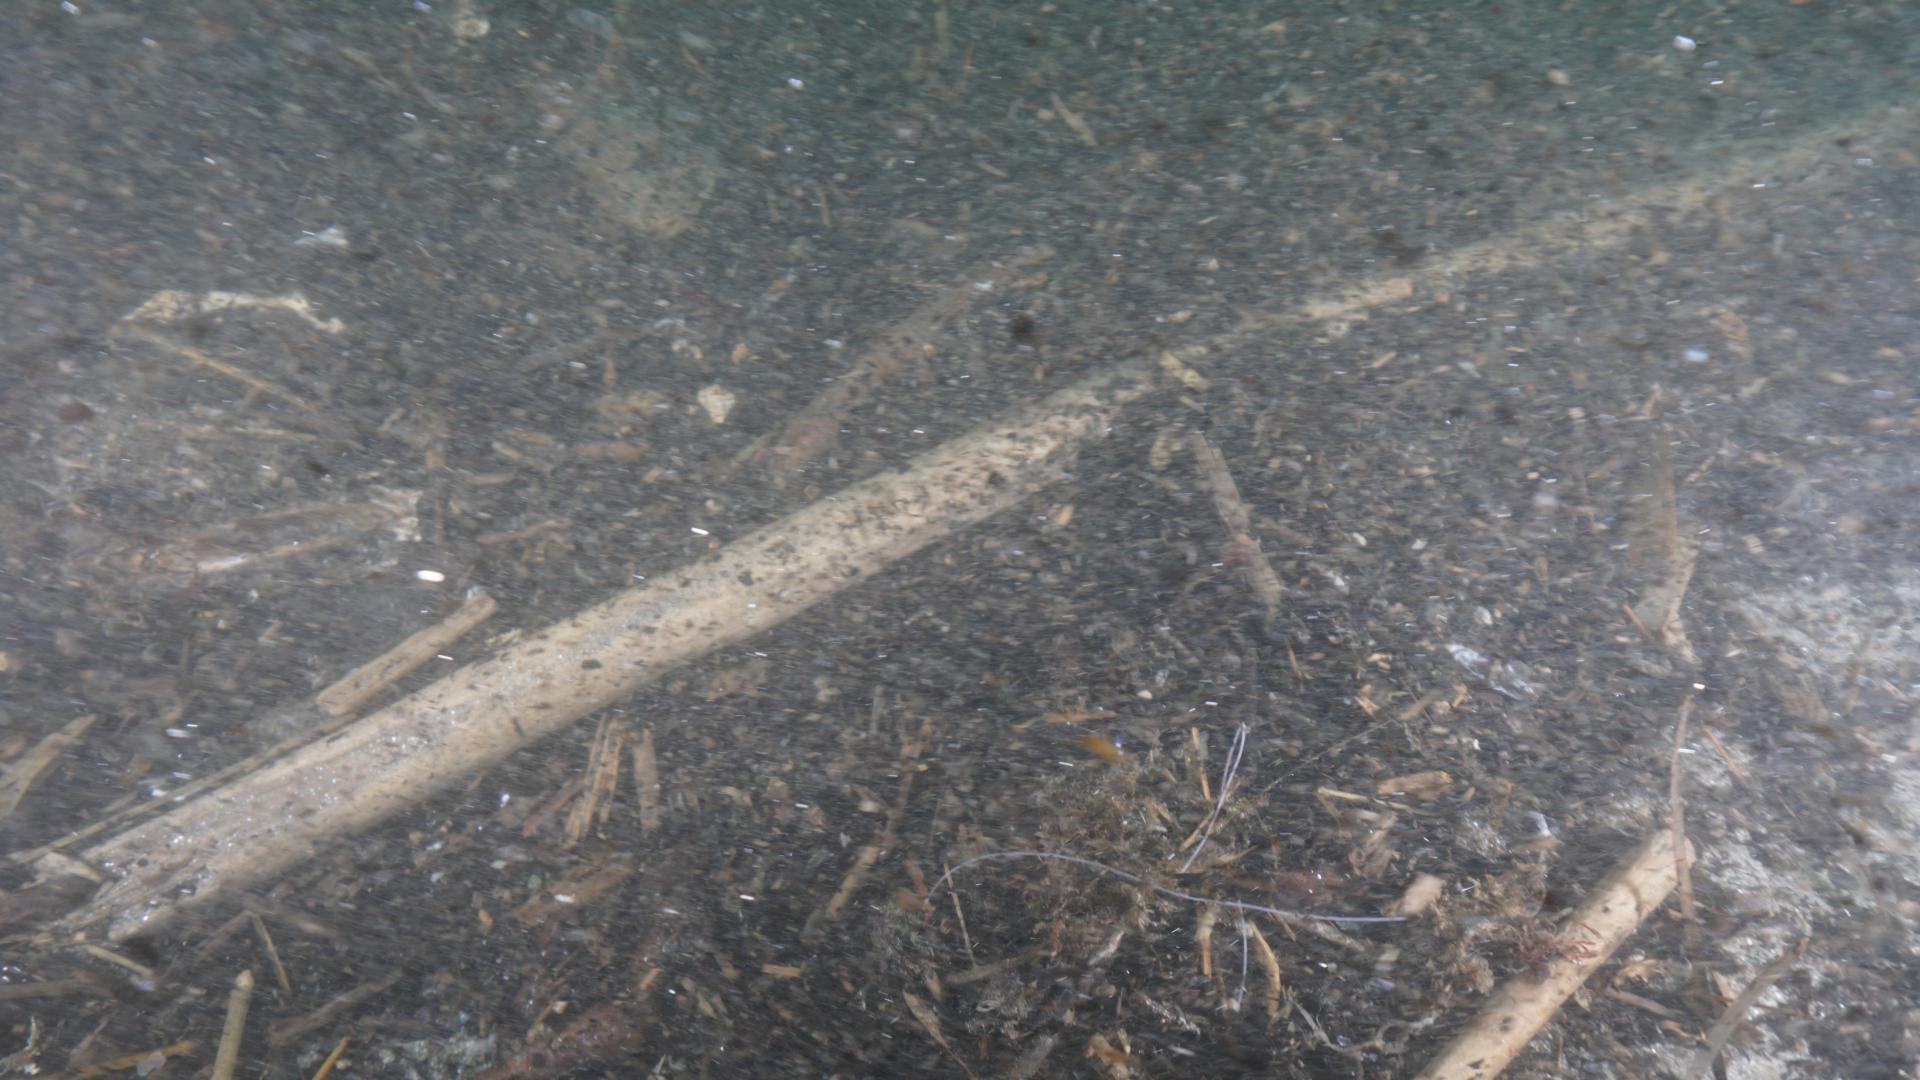wood: (33, 69, 1919, 961), (1420, 825, 1697, 1080)
